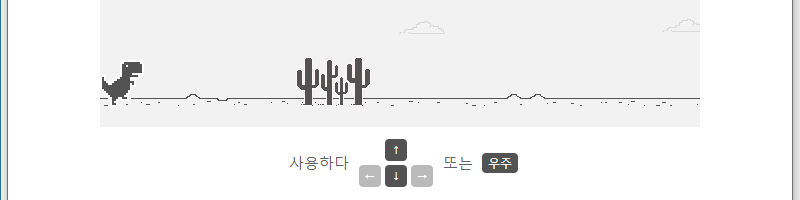dinosaur: (101, 59, 141, 106)
obstacle: (290, 57, 376, 105)
